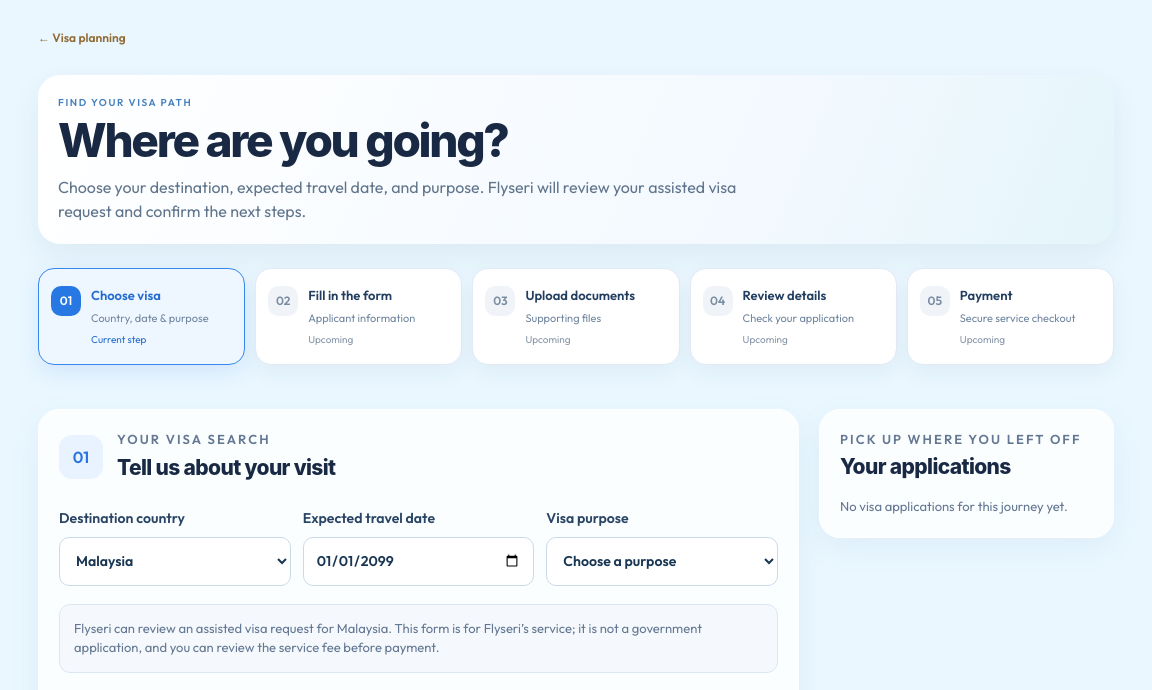
Test: optional saved visa applicants › rejects a negative new-applicant count even when saved applicants keep the total positive
Select "Tourism" in the dropdown labelled "Visa purpose" at (662, 561), box [546,537,778,586]
(page scrolled)
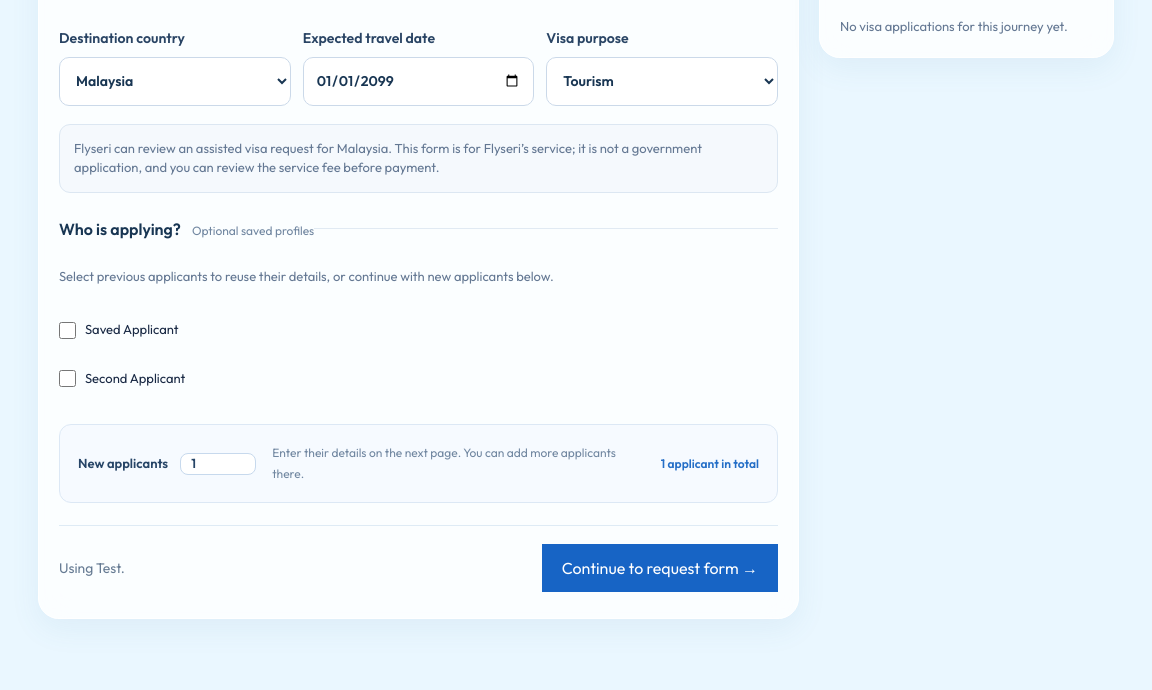
Click the checkbox labelled "Saved Applicant" at (68, 330), box [59,322,76,339]
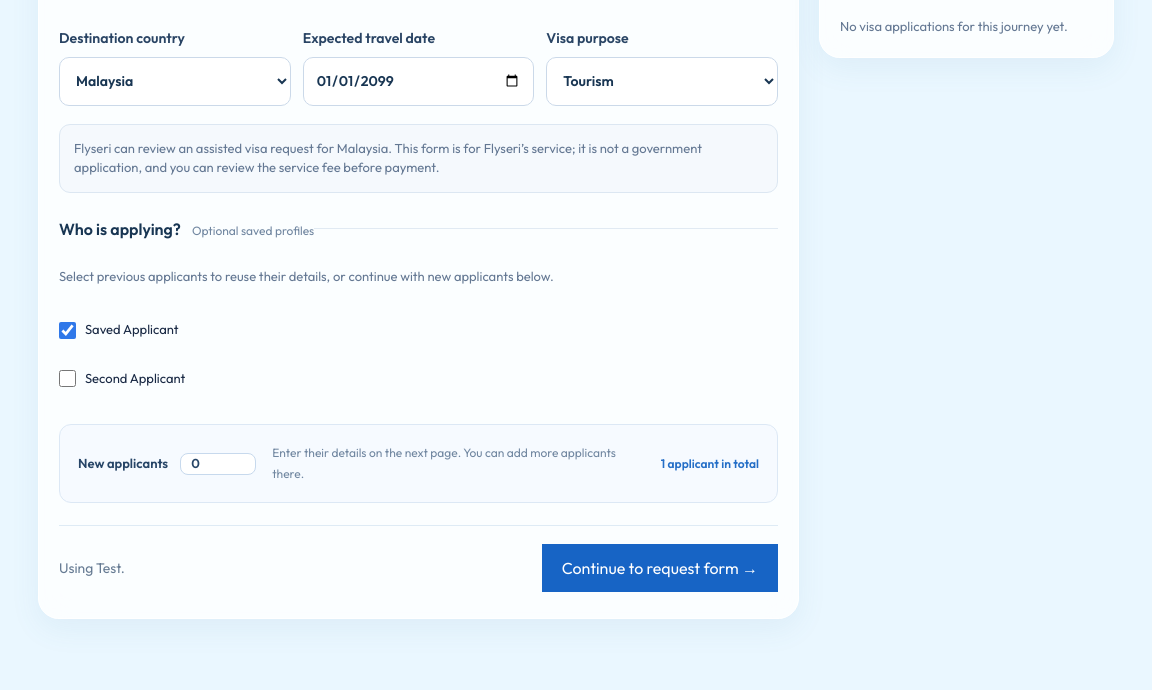
Click the checkbox labelled "Second Applicant" at (68, 379), box [59,370,76,387]
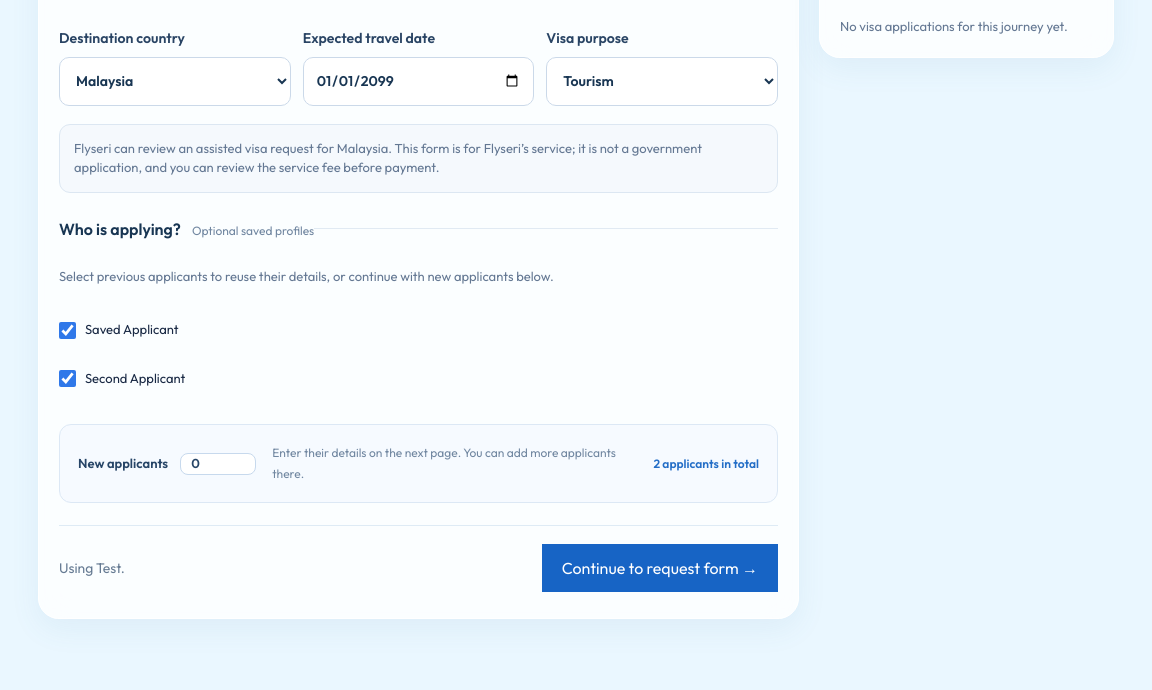
Replace the text in the number field labelled "New applicants" with "-1" at (218, 464), box [180,453,256,475]
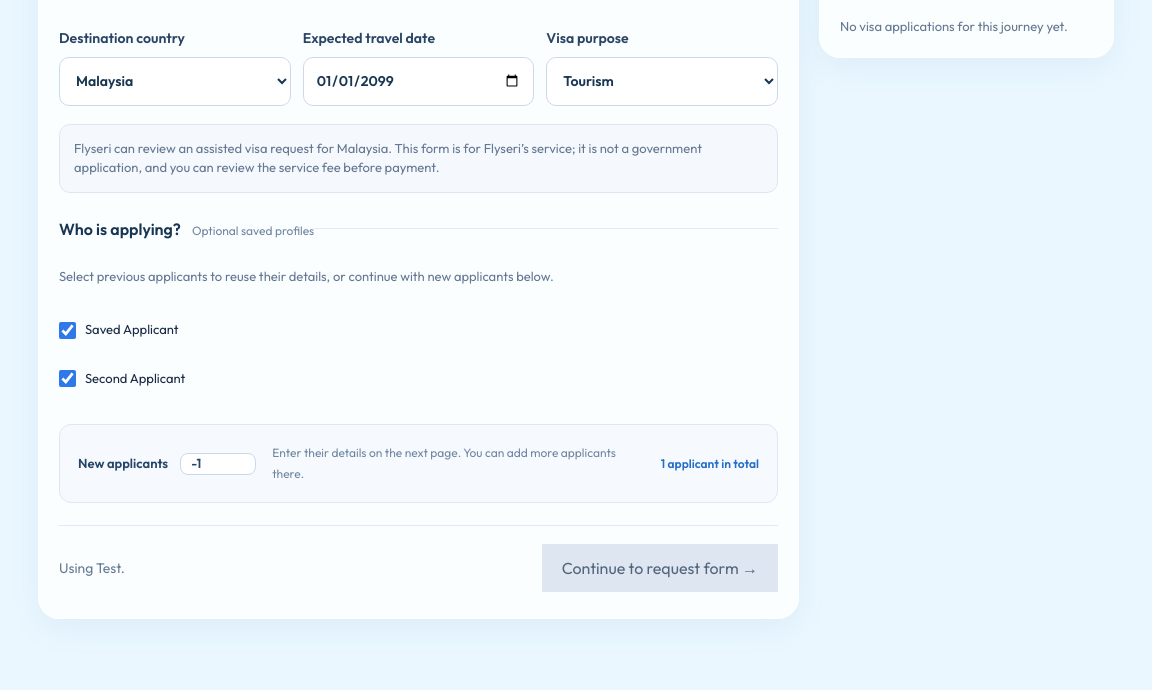
Expected: the button "Continue to request form →" is disabled, [542,544,778,592]
